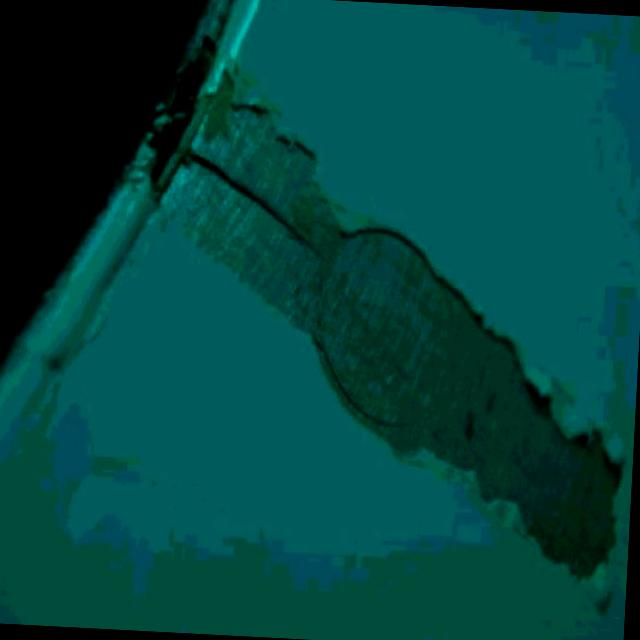crack: (186, 148, 262, 202), (260, 202, 323, 253)
